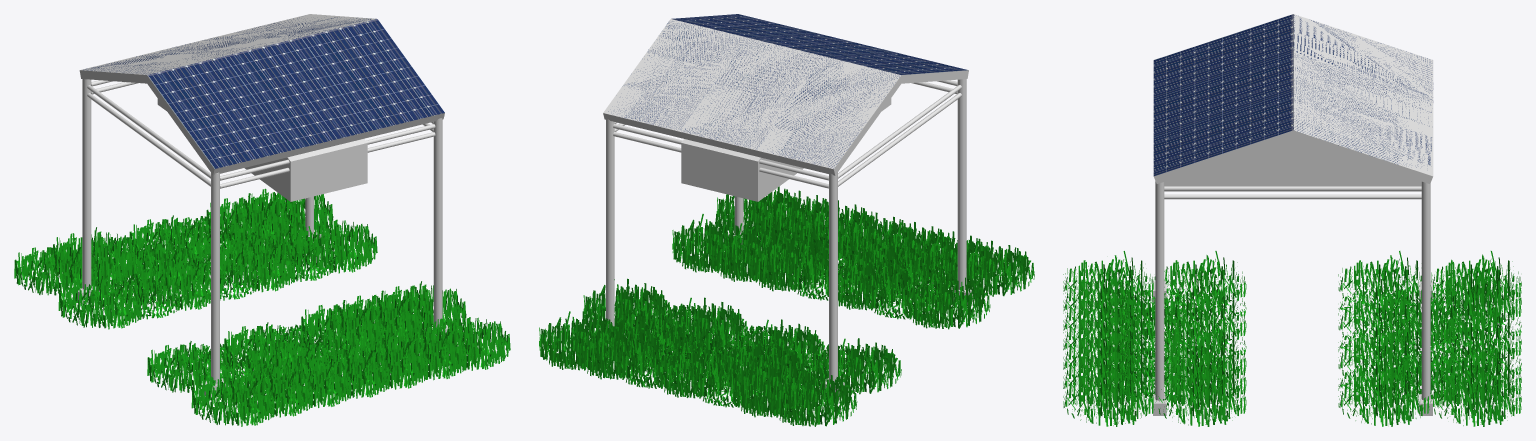
File: agiSolarGrass.glb
The picture shows the model from 3 angles, left to right: view 1: azimuth 30°, elevation 25°; view 2: azimuth 150°, elevation 25°; view 3: azimuth 270°, elevation 25°; orthographic projection. The views are drawn at different scales.
Visible parts, largest first — view 1: Cube.004, Cube.006, Cube.003, Cube.001, Trava Kolosok.017, Trava Kolosok.010, Trava Kolosok.049, Trava Kolosok.033, Trava Kolosok.026, Trava Kolosok.039, Trava Kolosok.032, Trava Kolosok.077 (+32 smaller); view 2: Cube.002, Cube.007, Cube.005, Cube.001, Trava Kolosok.077, Trava Kolosok.032, Trava Kolosok.039, Trava Kolosok.054, Trava Kolosok.019, Trava Kolosok.049, Trava Kolosok.020, Trava Kolosok.018 (+32 smaller); view 3: Cube.001, Cube.005, Cube.003, Cube.007, Cube.006, Cube.004, Cube.002, Trava Kolosok.010, Trava Kolosok.026, Trava Kolosok.077, Trava Kolosok.018, Trava Kolosok.022 (+36 smaller).
Part boxes in pixels (x1,y1,x2,y2): Cube.004: (147,56,291,175); Cube.006: (224,37,368,156); Cube.003: (301,19,444,137); Cube.001: (157,99,367,201); Trava Kolosok.017: (58,276,146,329); Trava Kolosok.010: (289,216,377,273); Trava Kolosok.049: (220,235,300,292); Trava Kolosok.033: (191,373,279,426); Trava Kolosok.026: (422,313,510,370); Trava Kolosok.039: (301,300,388,354); Trava Kolosok.032: (147,341,235,393); Trava Kolosok.077: (53,227,140,286); Cube.002: (757,56,901,175); Cube.007: (680,37,824,156); Cube.005: (603,19,746,137); Cube.001: (681,98,891,201); Trava Kolosok.077: (731,355,817,417); Trava Kolosok.032: (903,273,990,329); Trava Kolosok.039: (749,232,828,291); Trava Kolosok.054: (577,320,664,379); Trava Kolosok.019: (654,342,740,398); Trava Kolosok.049: (660,297,746,353); Trava Kolosok.020: (770,370,857,426); Trava Kolosok.018: (539,311,625,370); Cube.001: (1164,139,1421,191); Cube.005: (1290,91,1433,183); Cube.003: (1153,92,1295,183); Cube.007: (1293,53,1433,137); Cube.006: (1153,53,1293,137); Cube.004: (1153,14,1293,98); Cube.002: (1293,14,1433,98); Trava Kolosok.010: (1338,363,1429,426); Trava Kolosok.026: (1063,363,1154,426); Trava Kolosok.077: (1431,263,1521,328); Trava Kolosok.018: (1430,363,1521,426); Trava Kolosok.022: (1155,363,1246,426).
Size of the model in its own units: 4 by 3.4 by 5.
50 materials, 5 textured.
